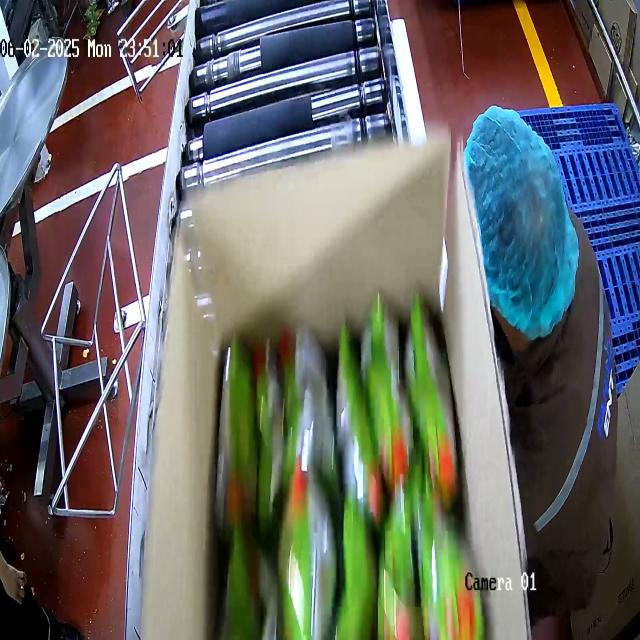YOGURT_HERB: (226, 318, 468, 640)
